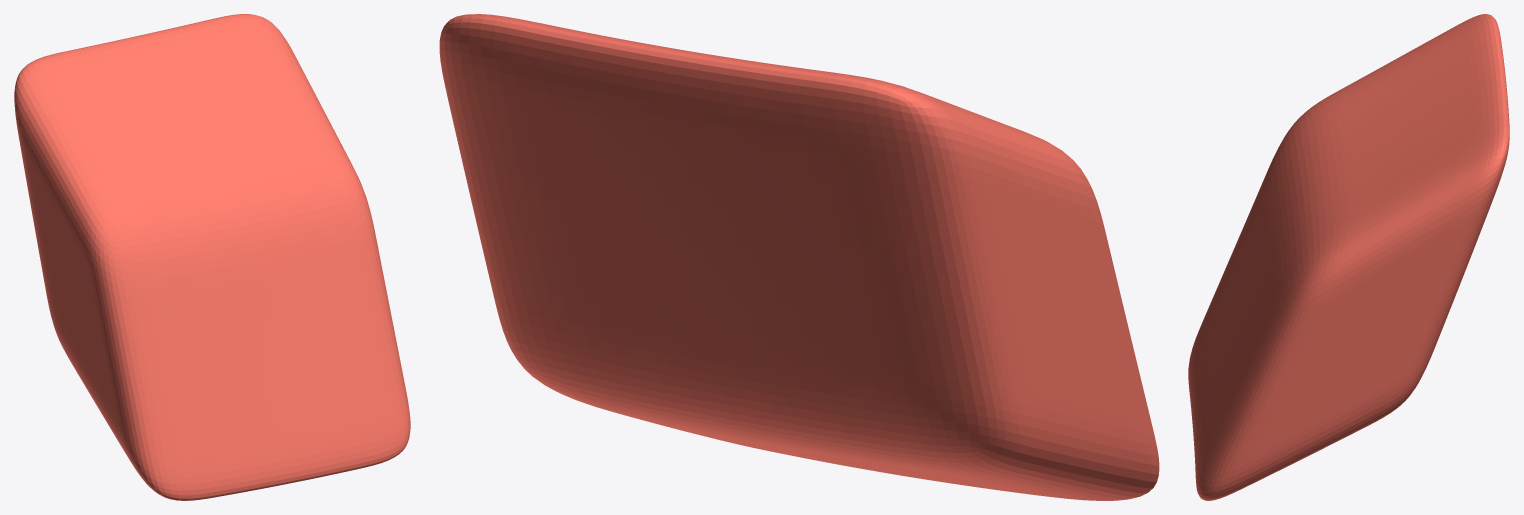
3 views of the same model, side by side, from view 1: azimuth 30°, elevation 25°; view 2: azimuth 150°, elevation 25°; view 3: azimuth 270°, elevation 25° (orthographic). The views are drawn at different scales.
Visible parts, largest first — view 1: waves_1.058; view 2: waves_1.058; view 3: waves_1.058.
Part boxes in pixels (box(x1,y1,x2,y2)): waves_1.058: box(14, 14, 410, 500); waves_1.058: box(439, 14, 1159, 500); waves_1.058: box(1188, 14, 1509, 500).
Size of the model in its own units: 30.13 by 35.55 by 27.95.
